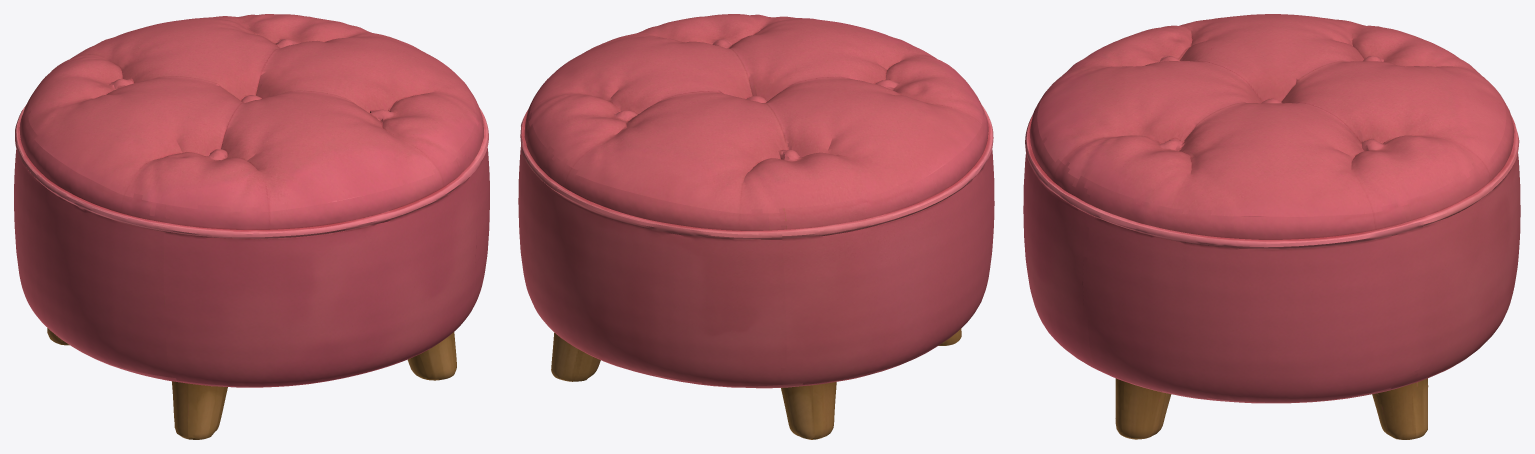
Rendered from Meshy_AI_Rose_Velvet_Ottoman_M_1122050911_texture.glb.
The picture shows the model from 3 angles, left to right: view 1: azimuth 30°, elevation 25°; view 2: azimuth 150°, elevation 25°; view 3: azimuth 270°, elevation 25°; orthographic projection. The views are drawn at different scales.
Visible parts, largest first — view 1: Mesh0; view 2: Mesh0; view 3: Mesh0.
Boxes of the visible parts, x1,y1,x2,y2 form: Mesh0: [14, 14, 489, 439]; Mesh0: [518, 14, 994, 439]; Mesh0: [1023, 14, 1520, 439].
Bounding box in the file's own units: 1.9 × 1.23 × 1.9.
Materials: 1 (1 with a texture image).
